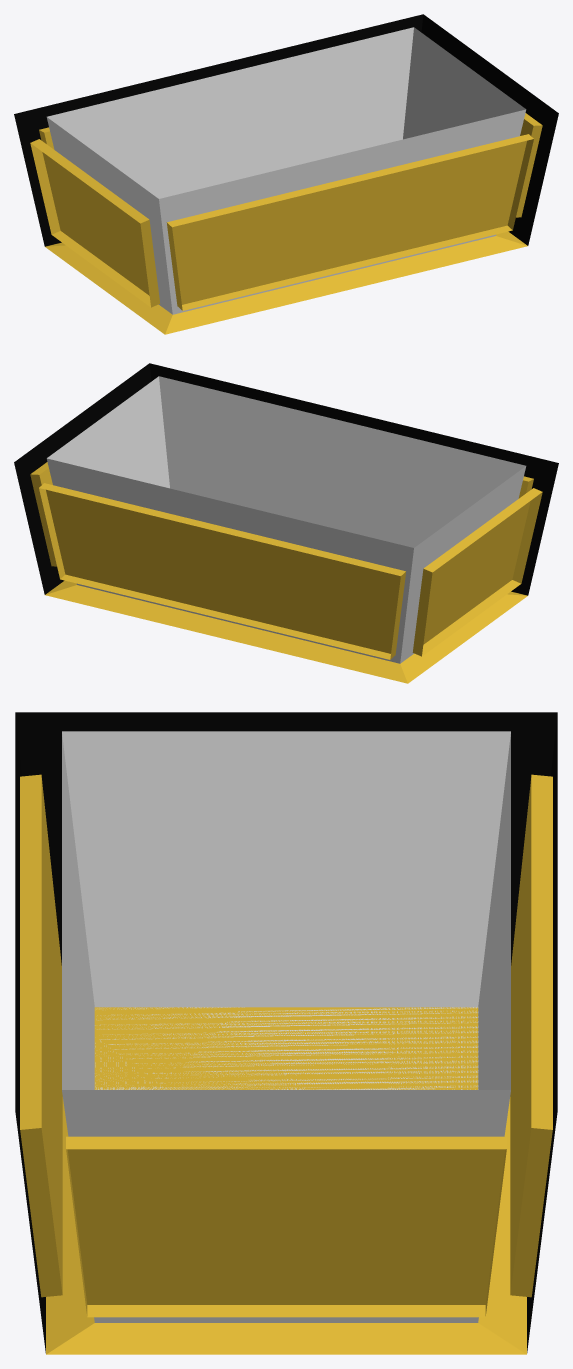
Rendered from chest-bottom.fbx.
3 renders of one model, top to bottom at view 1: azimuth 30°, elevation 25°; view 2: azimuth 150°, elevation 25°; view 3: azimuth 270°, elevation 25°, orthographic. The views are drawn at different scales.
Parts seen in each view (by area): view 1: Plane.001; view 2: Plane.001; view 3: Plane.001.
Boxes of the visible parts, x1,y1,x2,y2 form: Plane.001: (14,14,558,334); Plane.001: (14,363,558,683); Plane.001: (15,712,557,1354).
Size of the model in its own units: 200 by 62.24 by 115.
